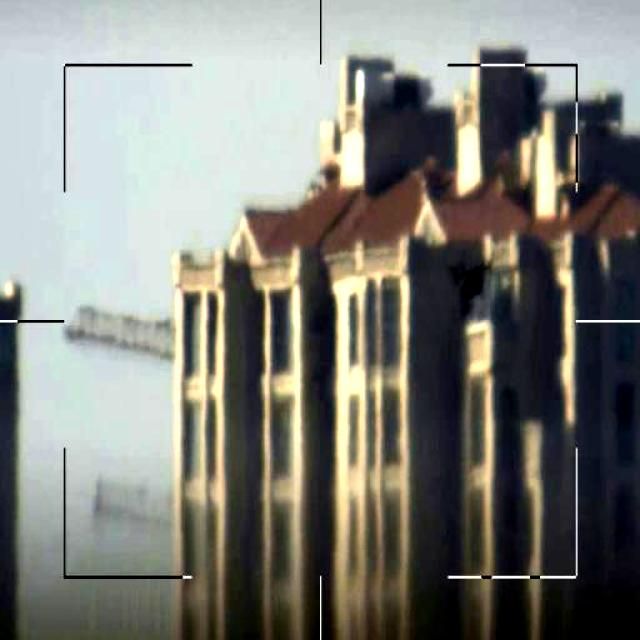bird: (444, 256, 500, 314)
